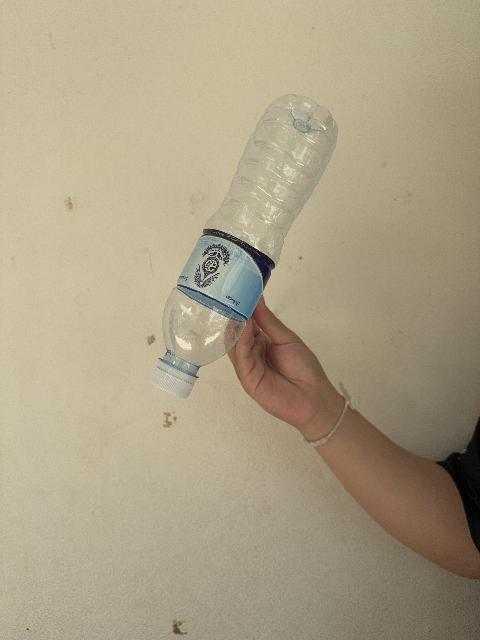bottle: (151, 95, 337, 397)
